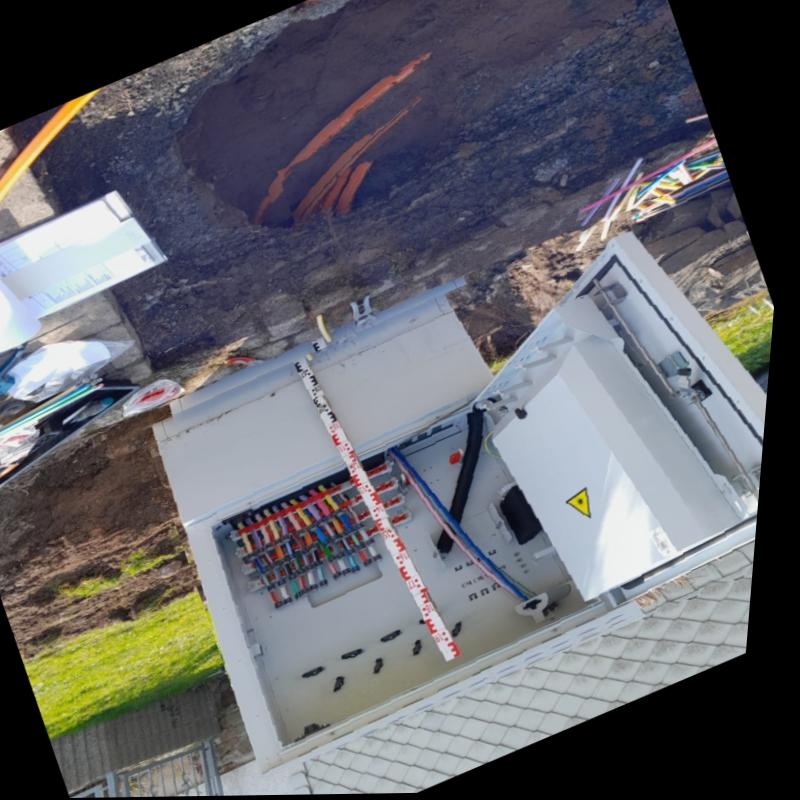NT-Gehause: (162, 228, 774, 780)
Orang-Speednetrohrchen: (258, 62, 423, 221), (298, 126, 389, 220)
